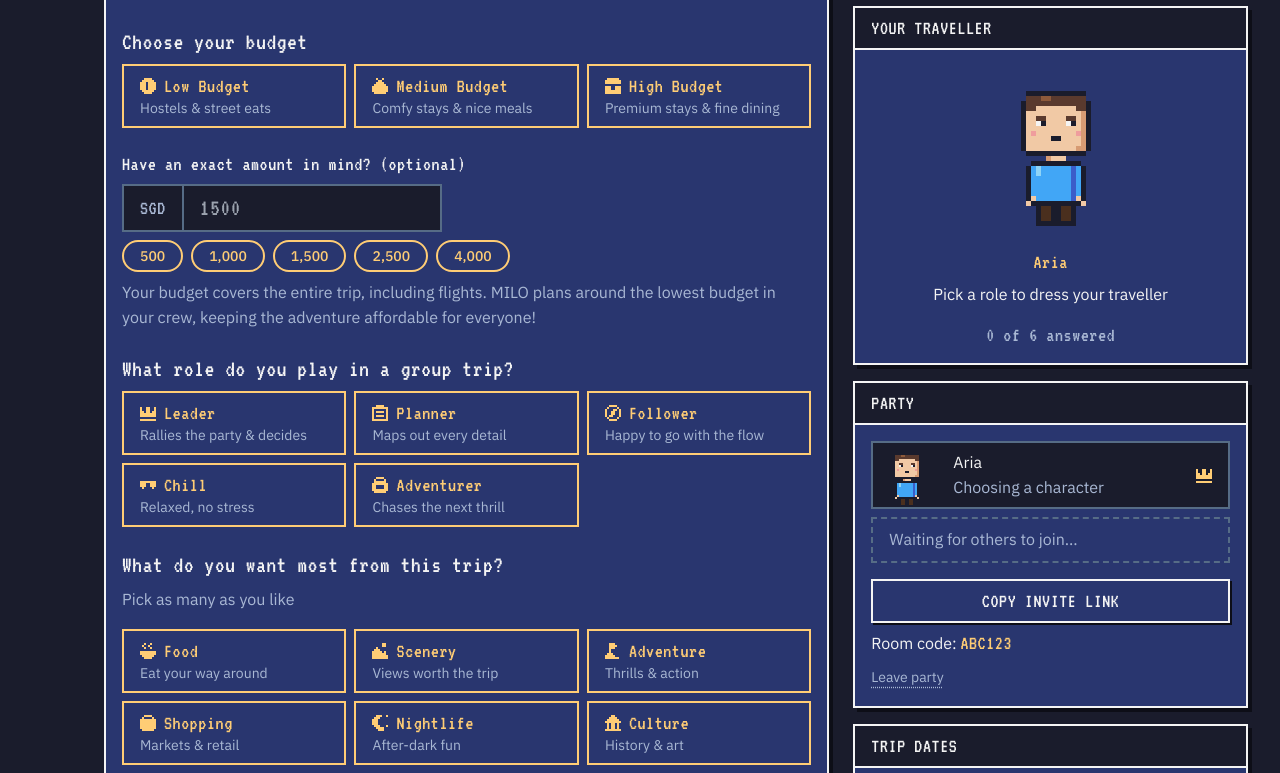
Test case: the traveller in the sidebar › stands in the sidebar while the form is open and follows each choice
(page scrolled)
Expected: the element with test id "traveller-card" shows "Pick a role to dress your traveller", [933,284,1168,304]
Expected: the element with test id "traveller-card" shows "0 of 6 answered", [986,325,1115,345]
Click the button "Planner Maps out every detail": click(467, 423) [354,391,579,455]
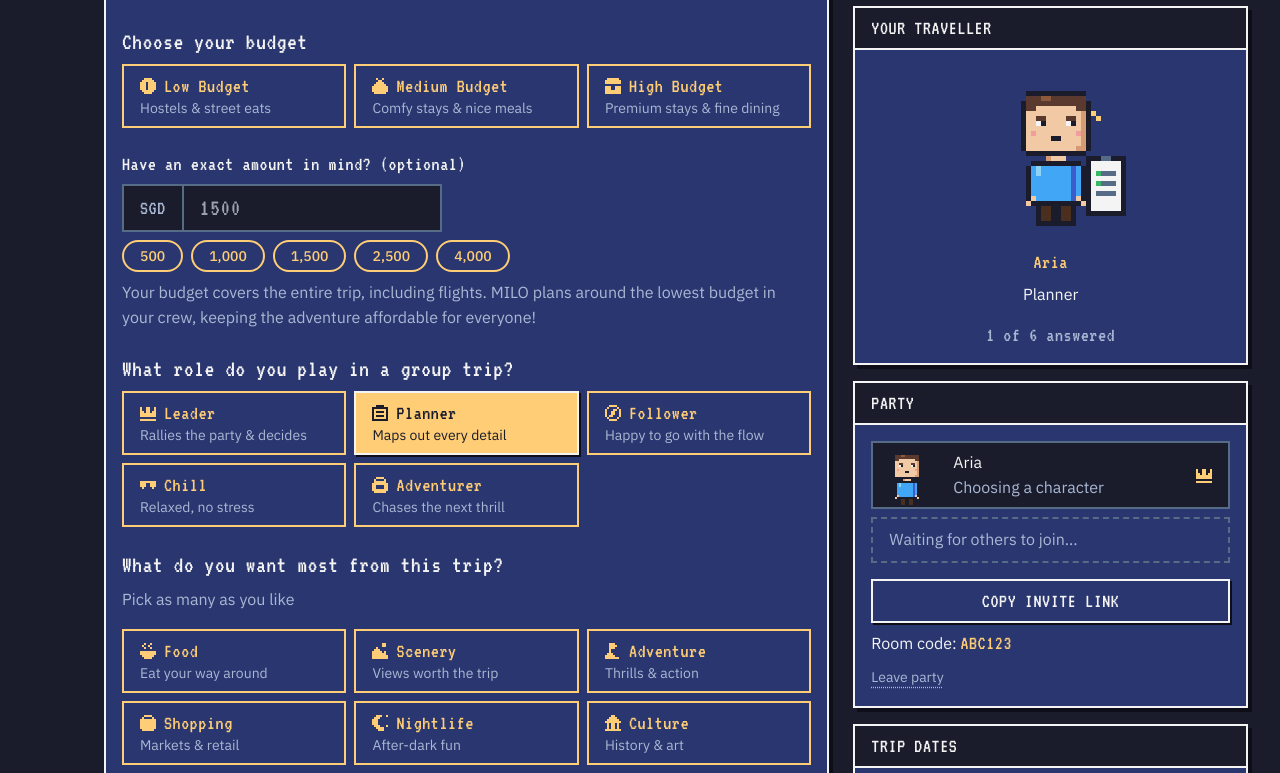
Click the button "Low Budget Hostels & street eats": click(234, 96) [122,64,346,128]
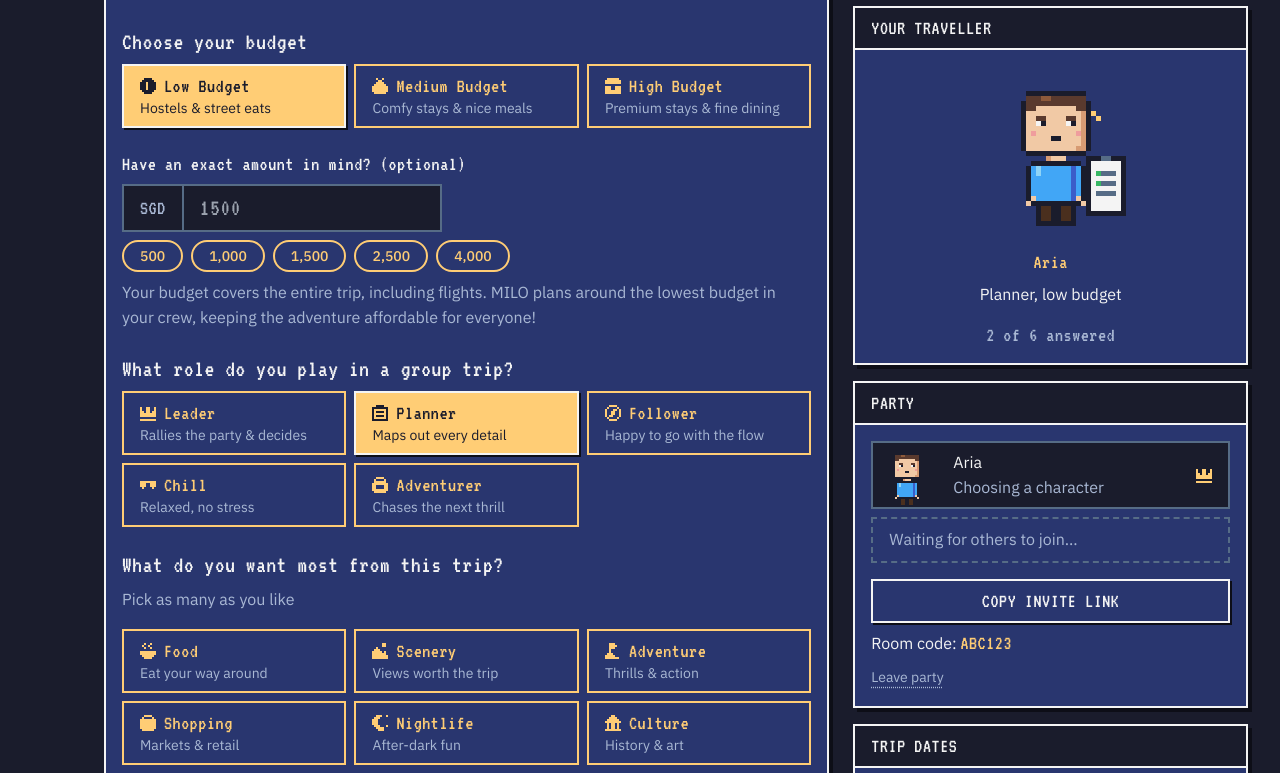
Expected: the element with test id "traveller-card" shows "Planner, low budget", [971,66,1122,345]
Expected: the element with test id "traveller-card" shows "2 of 6 answered", [986,325,1115,345]
